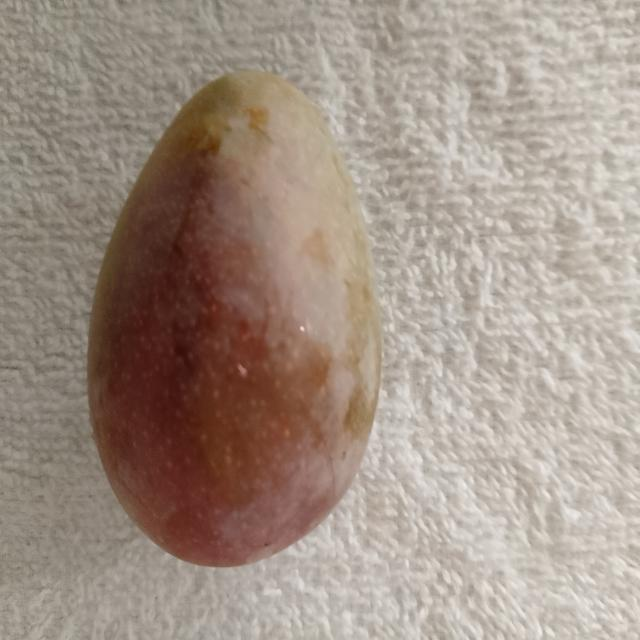mango: (86, 61, 384, 572)
